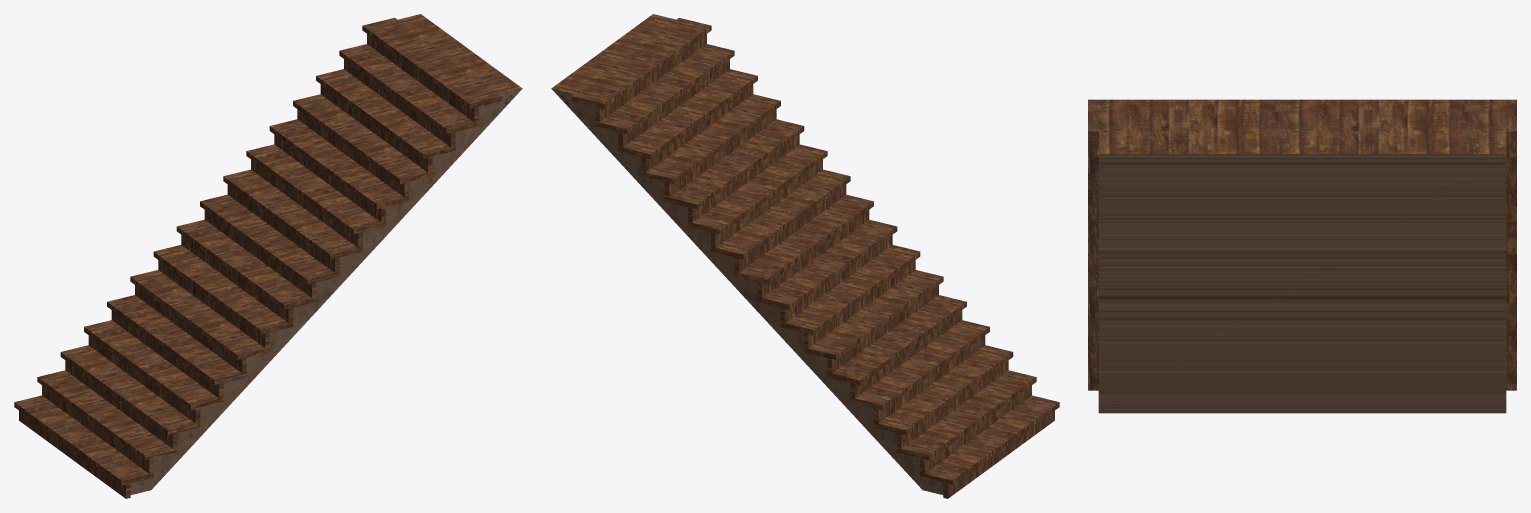
File: treppe_01.glb
3 renders of one model, left to right at view 1: azimuth 30°, elevation 25°; view 2: azimuth 150°, elevation 25°; view 3: azimuth 270°, elevation 25°, orthographic. The views are drawn at different scales.
Visible parts, largest first — view 1: Treppe_01.SLDPRT; view 2: Treppe_01.SLDPRT; view 3: Treppe_01.SLDPRT.
Boxes of the visible parts, x1=… form: Treppe_01.SLDPRT: x1=14, y1=14, x2=522, y2=498; Treppe_01.SLDPRT: x1=551, y1=14, x2=1059, y2=498; Treppe_01.SLDPRT: x1=1088, y1=99, x2=1516, y2=413.
Bounding box in the file's own units: 4.35 × 3.2 × 2.
Materials: 2 (2 with a texture image).
